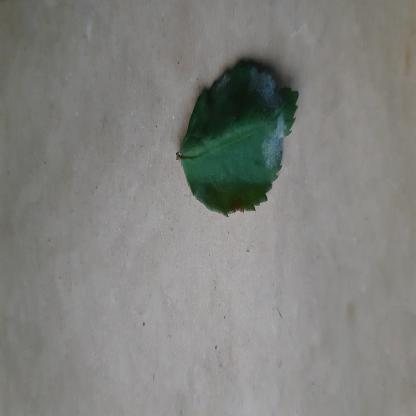powdery-mildew: (180, 60, 298, 212)
